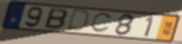1: (144, 16, 155, 38)
8: (114, 13, 135, 37)
9: (23, 6, 45, 28)
B: (42, 7, 69, 31)
C: (89, 12, 115, 34)
D: (65, 8, 92, 33)
